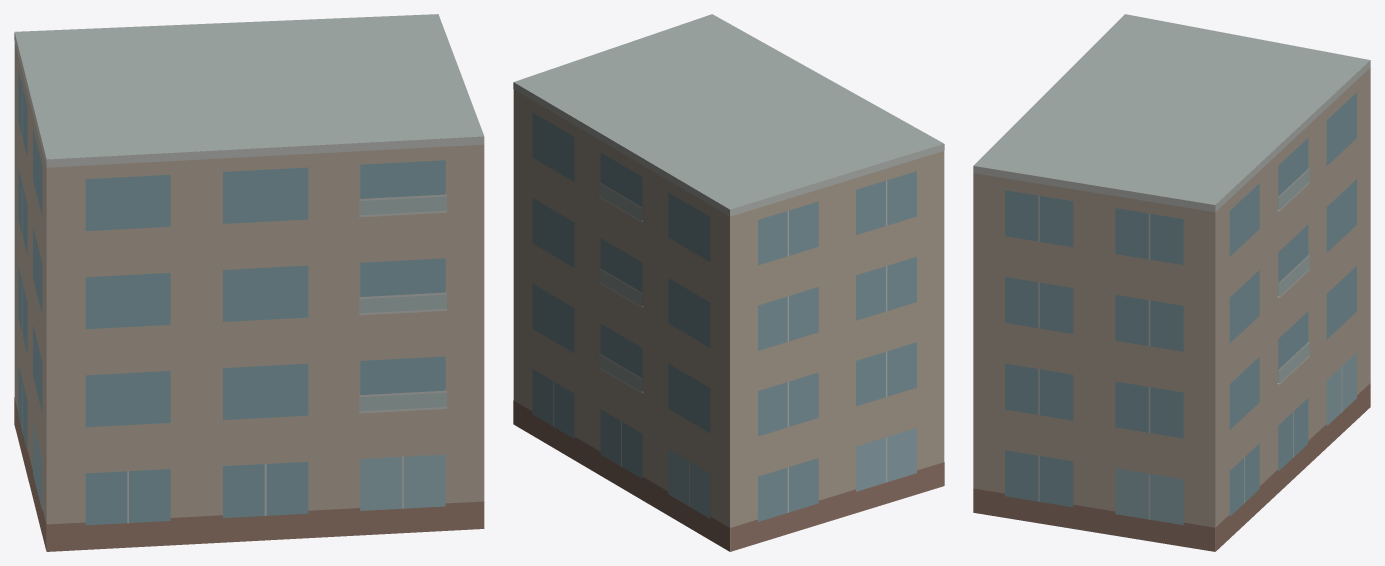
Rendered from survey-upis-32777054.glb.
The picture shows the model from 3 angles, left to right: view 1: azimuth 30°, elevation 25°; view 2: azimuth 150°, elevation 25°; view 3: azimuth 270°, elevation 25°; orthographic projection. The views are drawn at different scales.
Visible parts, largest first — view 1: survey-upis-32777054.tmp; view 2: survey-upis-32777054.tmp; view 3: survey-upis-32777054.tmp.
Part boxes in pixels (x1=…): survey-upis-32777054.tmp: x1=14, y1=14, x2=484, y2=551; survey-upis-32777054.tmp: x1=513, y1=14, x2=944, y2=551; survey-upis-32777054.tmp: x1=973, y1=14, x2=1370, y2=551.
Bounding box in the file's own units: 13.95 × 11.8 × 12.26.
